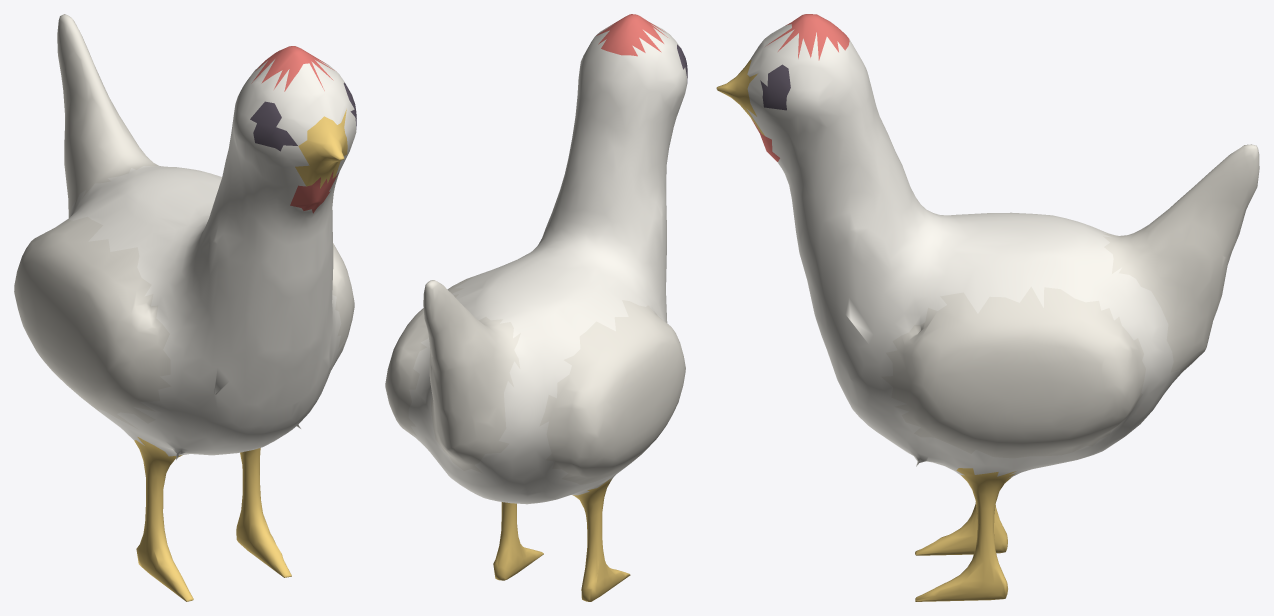
The model's file is chicken.glb.
3 renders of one model, left to right at view 1: azimuth 30°, elevation 25°; view 2: azimuth 150°, elevation 25°; view 3: azimuth 270°, elevation 25°, orthographic. The views are drawn at different scales.
Visible parts, largest first — view 1: chicken; view 2: chicken; view 3: chicken.
Part boxes in pixels (left/top/right/bottom): chicken: left=14, top=14, right=356, bottom=601; chicken: left=385, top=14, right=687, bottom=601; chicken: left=716, top=14, right=1259, bottom=601.
Size of the model in its own units: 16.49 by 35.9 by 31.4.
